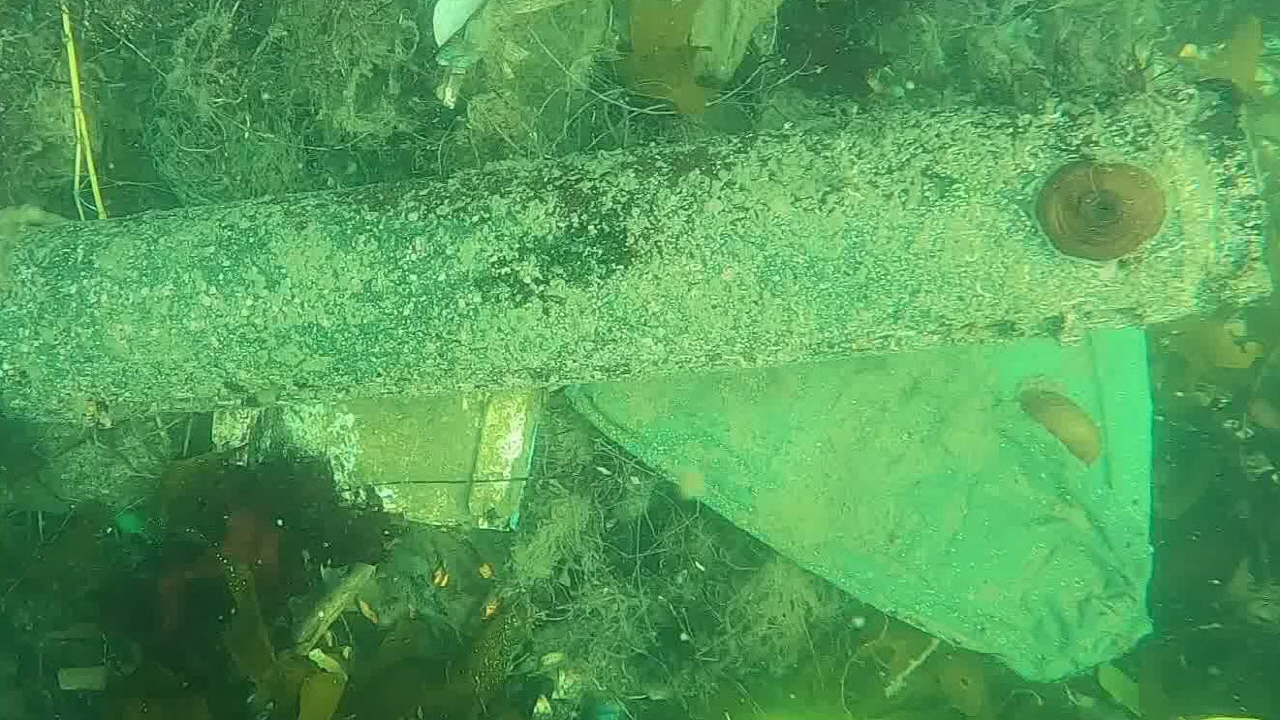eel fish trap: (0, 78, 1273, 425)
